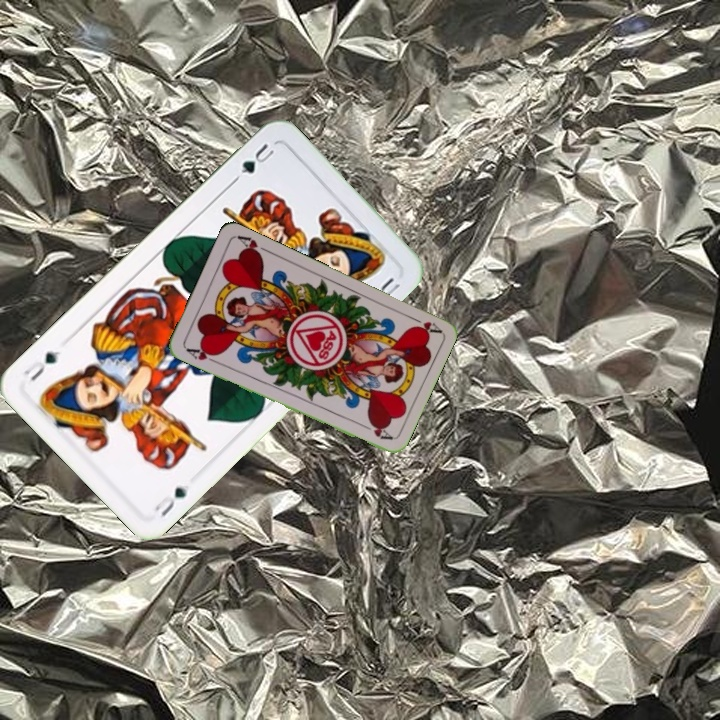GU: (230, 139, 277, 184), (150, 483, 191, 519)
HA: (404, 311, 443, 337), (182, 343, 221, 366)
